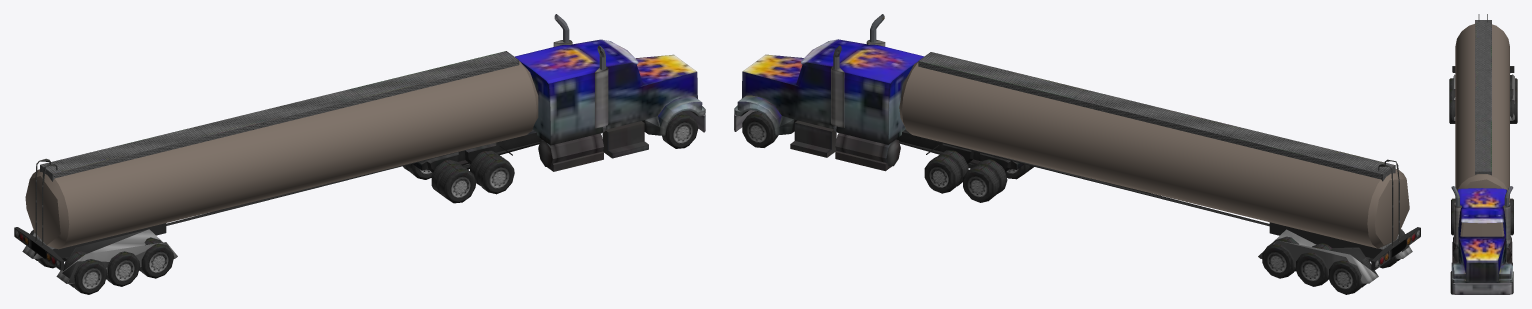
Rendered from oil-tanker.zfix-v1.lod0.glb.
The picture shows the model from 3 angles, left to right: view 1: azimuth 30°, elevation 25°; view 2: azimuth 150°, elevation 25°; view 3: azimuth 270°, elevation 25°; orthographic projection. The views are drawn at different scales.
Visible parts, largest first — view 1: Frieghtliner Oil Tanker_Windscreen_0, Frieghtliner Oil Tanker_Body_0, Wheels.021_Wheels_0; view 2: Frieghtliner Oil Tanker_Windscreen_0, Frieghtliner Oil Tanker_Body_0, Wheels.021_Wheels_0; view 3: Frieghtliner Oil Tanker_Body_0, Frieghtliner Oil Tanker_Windscreen_0, Wheels.021_Wheels_0.
Part boxes in pixels (<box>): Frieghtliner Oil Tanker_Windscreen_0: <box>25,61,538,249</box>; Frieghtliner Oil Tanker_Body_0: <box>14,14,705,283</box>; Wheels.021_Wheels_0: <box>30,111,698,294</box>; Frieghtliner Oil Tanker_Windscreen_0: <box>899,62,1409,248</box>; Frieghtliner Oil Tanker_Body_0: <box>734,14,1420,283</box>; Wheels.021_Wheels_0: <box>742,111,1404,294</box>; Frieghtliner Oil Tanker_Body_0: <box>1451,14,1514,294</box>; Frieghtliner Oil Tanker_Windscreen_0: <box>1455,24,1509,236</box>; Wheels.021_Wheels_0: <box>1449,78,1517,294</box>.
Bounding box in the file's own units: 19 × 3.43 × 2.61.
3 materials, 2 textured.
